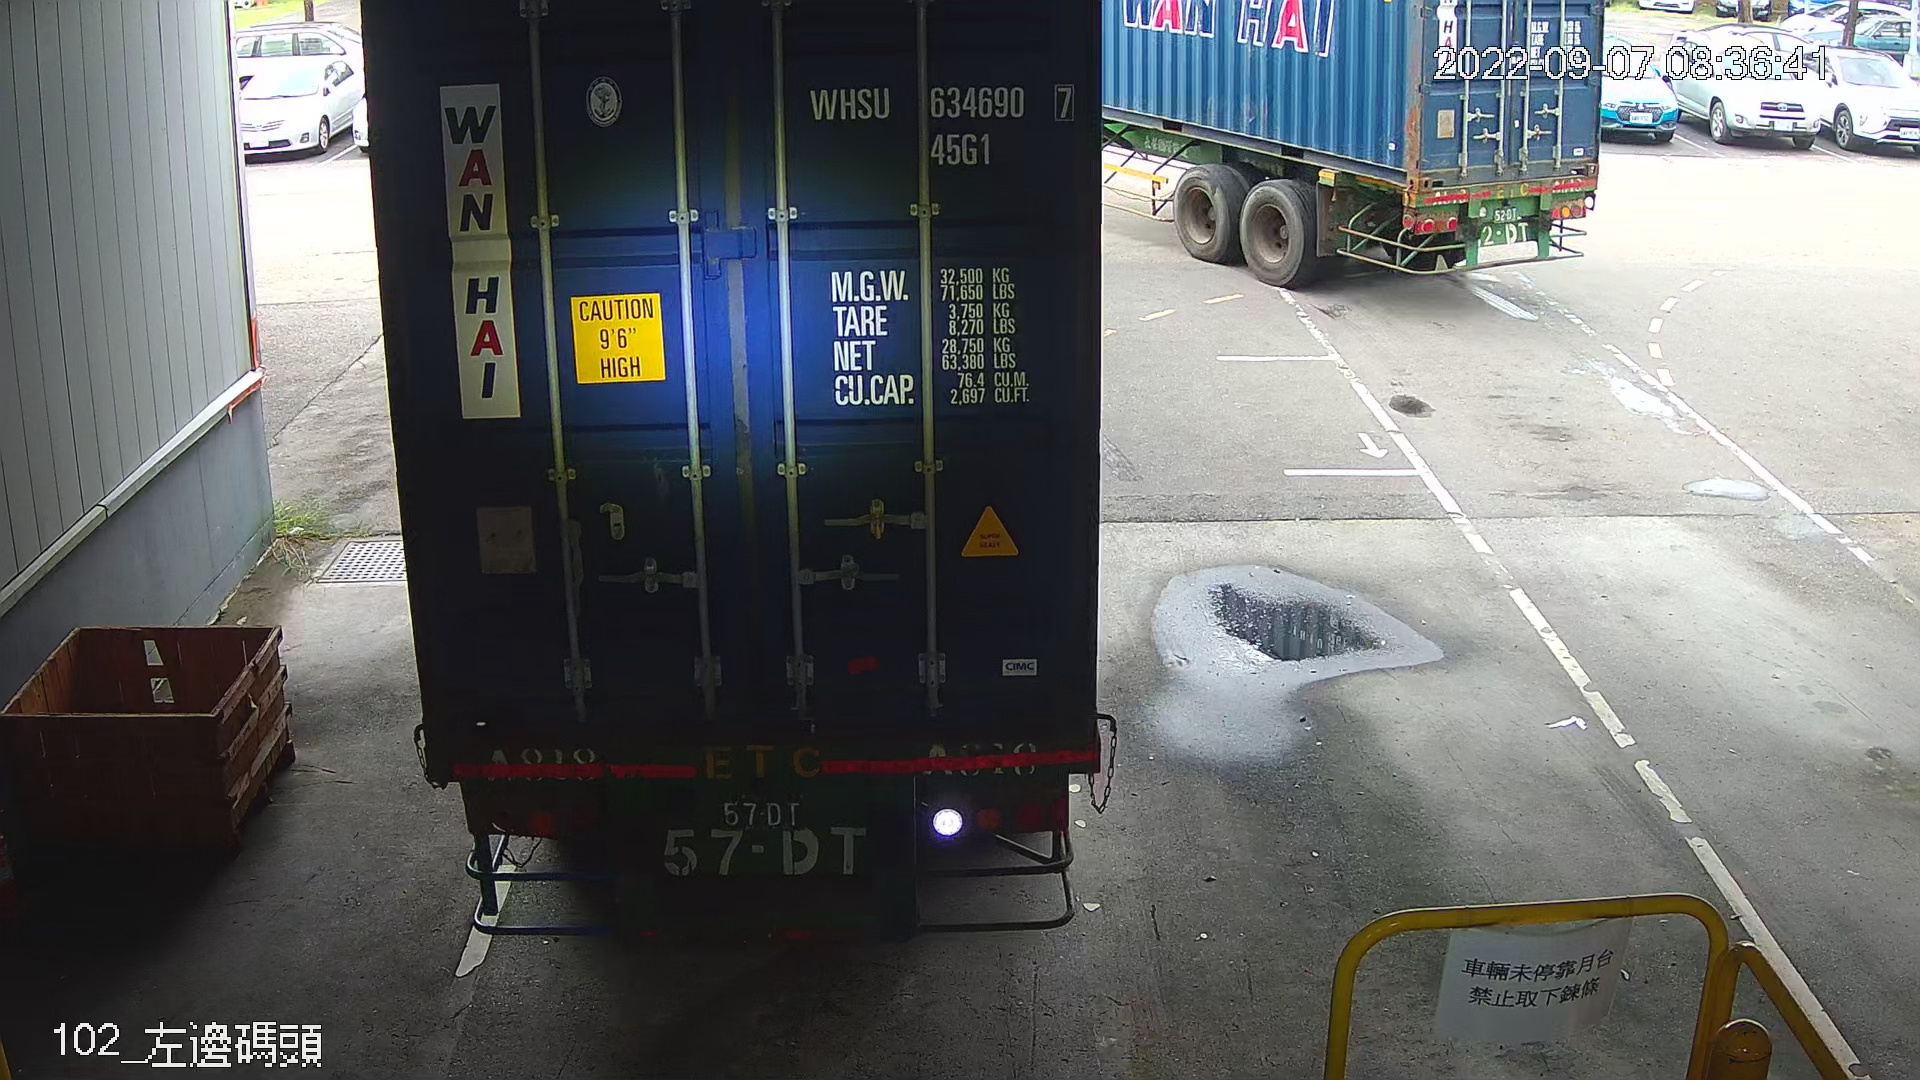container: (794, 69, 1083, 175)
